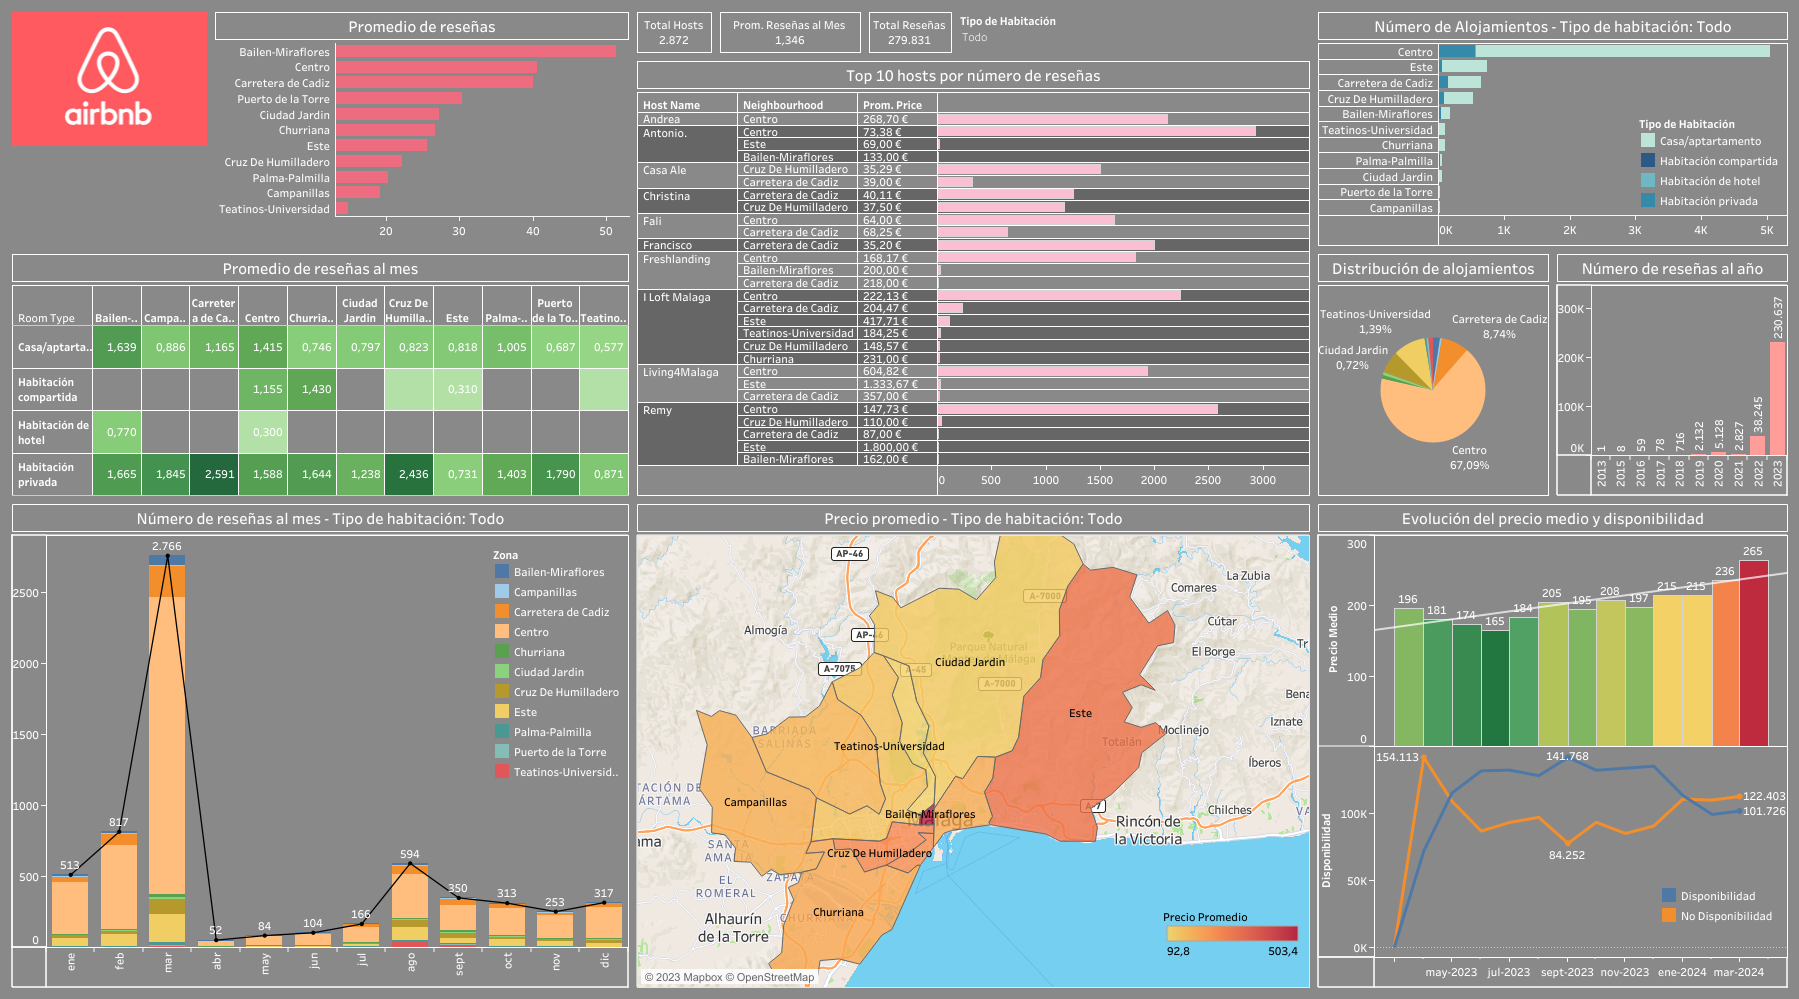

What the dashboard file says about the page in this screenshot:
{"tool":"tableau","page":{"name":"Dashboard","canvas":[1800,1000],"ordinal":0},"visuals":[{"type":"image","param":"Image/bnb_billboard_01-2000x1125.jpg","box":[8,8,203,242]},{"type":"worksheet","title":"Promedio de reseñas","mark":"Automatic","rows":["neighbourhood"],"cols":["number_of_reviews"],"box":[211,8,422,242]},{"type":"worksheet","title":"Total Hosts","mark":"Automatic","box":[633,8,83,49]},{"type":"worksheet","title":"Avg. Reviews per Month","mark":"Automatic","box":[716,8,149,49]},{"type":"worksheet","title":"Total Reviews","mark":"Automatic","box":[865,8,91,49]},{"type":"filter","title":"Alojamientos","param":"[federated.1yzxia4015sthn0zk5hci1wl8jp8].[none:room_type:nk]","box":[956,8,358,49]},{"type":"worksheet","title":"Alojamientos","mark":"Automatic","rows":["neighbourhood"],"cols":["name"],"box":[1314,8,478,242]},{"type":"worksheet","title":"Top 10 hosts por número de reseñas","mark":"Automatic","rows":["host_name","neighbourhood","price"],"cols":["number_of_reviews"],"box":[633,57,681,443]},{"type":"legend","title":"Alojamientos","param":"[federated.1yzxia4015sthn0zk5hci1wl8jp8].[none:room_type:nk]","box":[1638,114,153,98]},{"type":"worksheet","title":"Promedio de reseñas al mes","mark":"Square","rows":["room_type"],"cols":["neighbourhood"],"box":[8,250,625,250]},{"type":"worksheet","title":"Distribución de alojamientos","mark":"Pie","box":[1314,250,239,250]},{"type":"worksheet","title":"Número de reseñas al año","mark":"Bar","rows":["number_of_reviews"],"cols":["last_review"],"box":[1553,250,239,250]},{"type":"worksheet","title":"Número de reseñas al mes","mark":"Bar","rows":["name","name"],"cols":["last_review"],"box":[8,500,625,492]},{"type":"worksheet","title":"Precio promedio - Tipo de habitación","mark":"Automatic","box":[633,500,681,492]},{"type":"worksheet","title":"Evolución del precio medio y disponibilidad","mark":"Line","rows":["Precio Medio","Disponibilidad","No_Disponibilidad"],"cols":["Fecha"],"box":[1314,500,478,492]},{"type":"legend","title":"Distribución de alojamientos","param":"[federated.1yzxia4015sthn0zk5hci1wl8jp8].[none:neighbourhood:nk]","box":[492,545,128,243]},{"type":"legend","title":"Evolución del precio medio y disponibilidad","param":"[federated.1yzxia4015sthn0zk5hci1wl8jp8].[:Measure Names]","box":[1659,885,140,58]},{"type":"legend","title":"Precio promedio - Tipo de habitación","param":"[federated.1yzxia4015sthn0zk5hci1wl8jp8].[avg:price:qk]","box":[1163,905,140,76]}]}

Visuals, with their boxes in screenshot pixels (x1, y1, x2, y2), scaled from the page's 1800x1000 canvas onto the 1799x999 screenshot:
image: detection(8, 8, 211, 250)
"Promedio de reseñas" worksheet: detection(211, 8, 633, 250)
"Total Hosts" worksheet: detection(633, 8, 716, 57)
"Avg. Reviews per Month" worksheet: detection(716, 8, 865, 57)
"Total Reviews" worksheet: detection(865, 8, 955, 57)
"Alojamientos" filter: detection(955, 8, 1313, 57)
"Alojamientos" worksheet: detection(1313, 8, 1791, 250)
"Top 10 hosts por número de reseñas" worksheet: detection(633, 57, 1313, 500)
"Alojamientos" legend: detection(1637, 114, 1790, 212)
"Promedio de reseñas al mes" worksheet (Square marks): detection(8, 250, 633, 500)
"Distribución de alojamientos" worksheet (Pie marks): detection(1313, 250, 1552, 500)
"Número de reseñas al año" worksheet (Bar marks): detection(1552, 250, 1791, 500)
"Número de reseñas al mes" worksheet (Bar marks): detection(8, 500, 633, 991)
"Precio promedio - Tipo de habitación" worksheet: detection(633, 500, 1313, 991)
"Evolución del precio medio y disponibilidad" worksheet (Line marks): detection(1313, 500, 1791, 991)
"Distribución de alojamientos" legend: detection(492, 544, 620, 787)
"Evolución del precio medio y disponibilidad" legend: detection(1658, 884, 1798, 942)
"Precio promedio - Tipo de habitación" legend: detection(1162, 904, 1302, 980)
